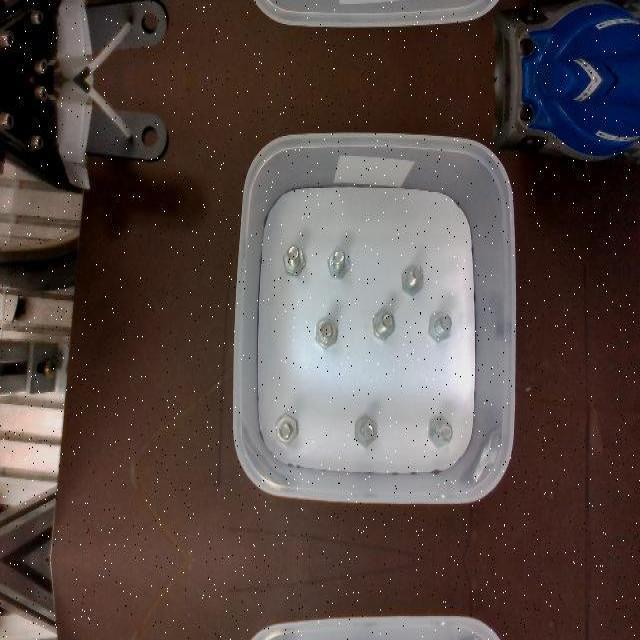screw: (428, 414, 453, 448), (313, 315, 337, 349), (354, 413, 377, 447), (326, 246, 350, 278), (429, 311, 452, 343), (283, 244, 305, 276), (276, 412, 298, 444), (401, 263, 423, 293), (372, 310, 394, 340)
